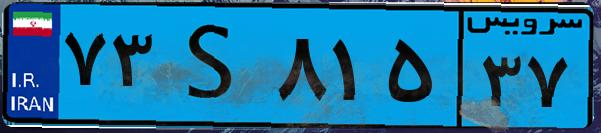1: (330, 28, 385, 110)
3: (475, 38, 525, 113), (110, 28, 158, 98)
5: (385, 28, 445, 110)
7: (57, 26, 110, 100), (525, 38, 570, 115)
8: (270, 28, 330, 110)
S: (158, 12, 270, 120)
